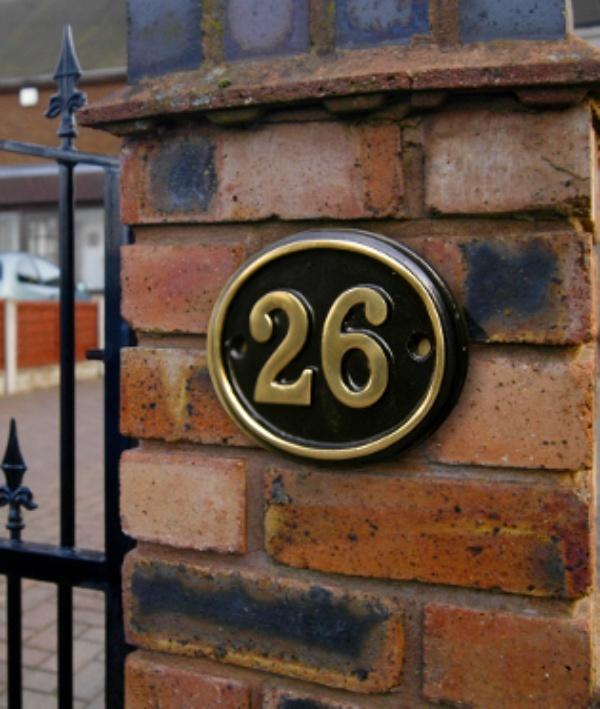text: (257, 281, 272, 410), (273, 281, 288, 410), (289, 281, 304, 410), (305, 281, 320, 410), (321, 281, 336, 410), (337, 281, 352, 410), (353, 281, 368, 410), (369, 281, 384, 410), (244, 281, 256, 410), (385, 281, 395, 410)
